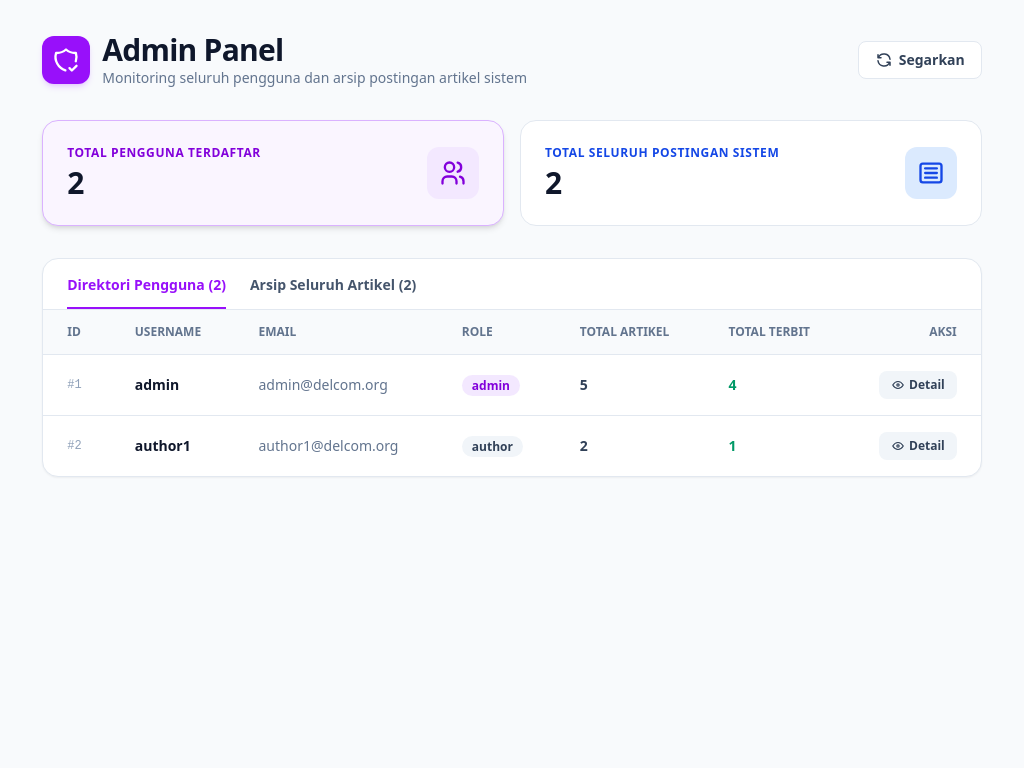
Test case: AdminDashboard › handles inspecting user posts in modal and closing modal
Expected: the text "author1@delcom.org" is shown, [234,416,438,476]
Click the button "Detail" in the row of "author1@delcom.org".
click(918, 446)  # box [879,432,957,460]
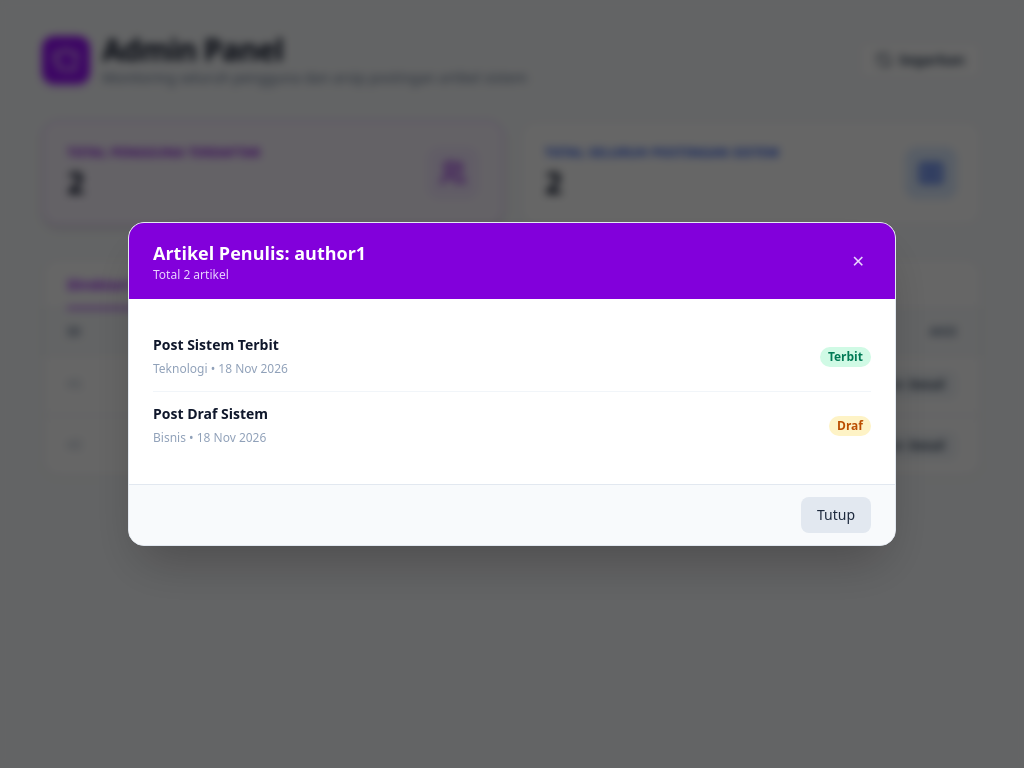
Expected: the heading "Artikel Penulis: author1" is shown, [153,239,366,267]
Expected: the text "Post Sistem Terbit" is shown, [153,335,288,355]
Expected: the text "Post Draf Sistem" is shown, [153,404,268,424]
// Close modal via close button
Click the button "Tutup".
click(836, 515)  # box [801,497,871,533]
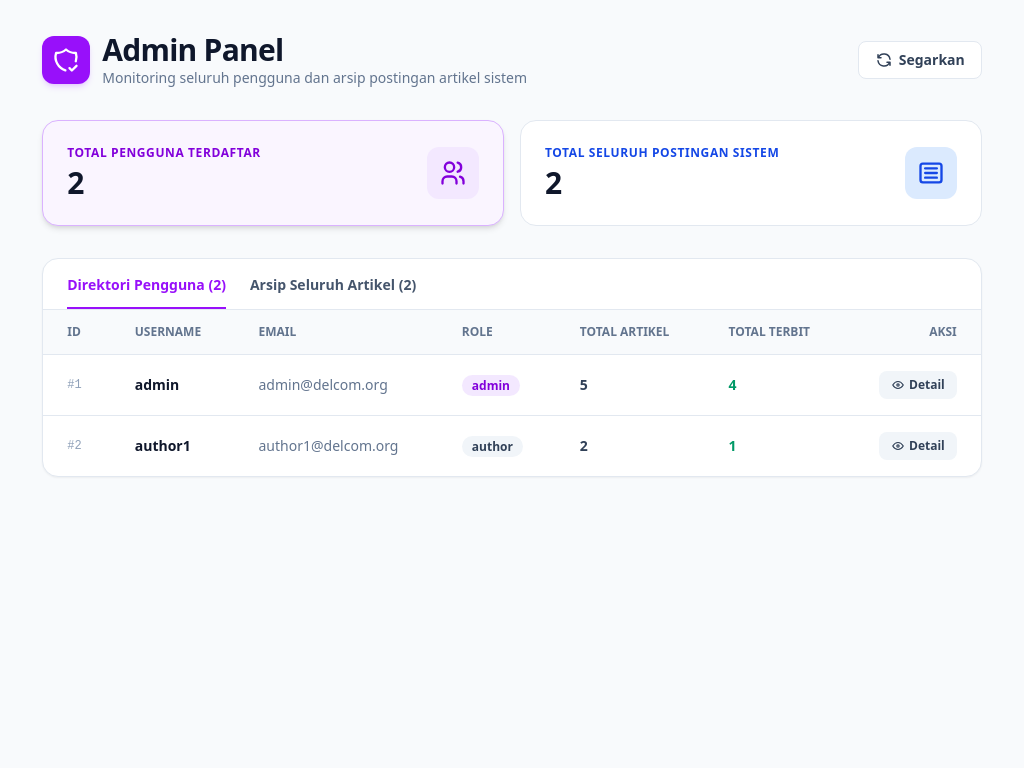
Expected: the heading "Artikel Penulis: author1" is gone
// Reopen and close via X button
Click the button "Detail" in the row of "author1@delcom.org".
click(918, 446)  # box [879,432,957,460]
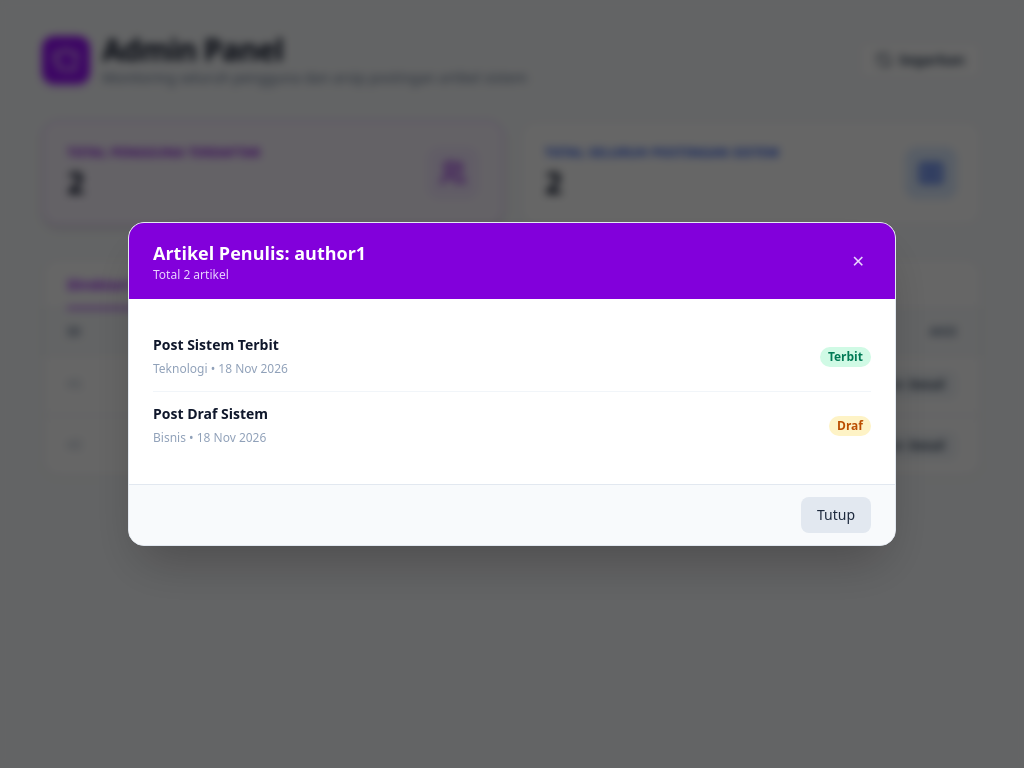
Expected: the heading "Artikel Penulis: author1" is shown, [153,239,366,267]
Click the button "✕".
click(858, 261)  # box [846,243,871,279]
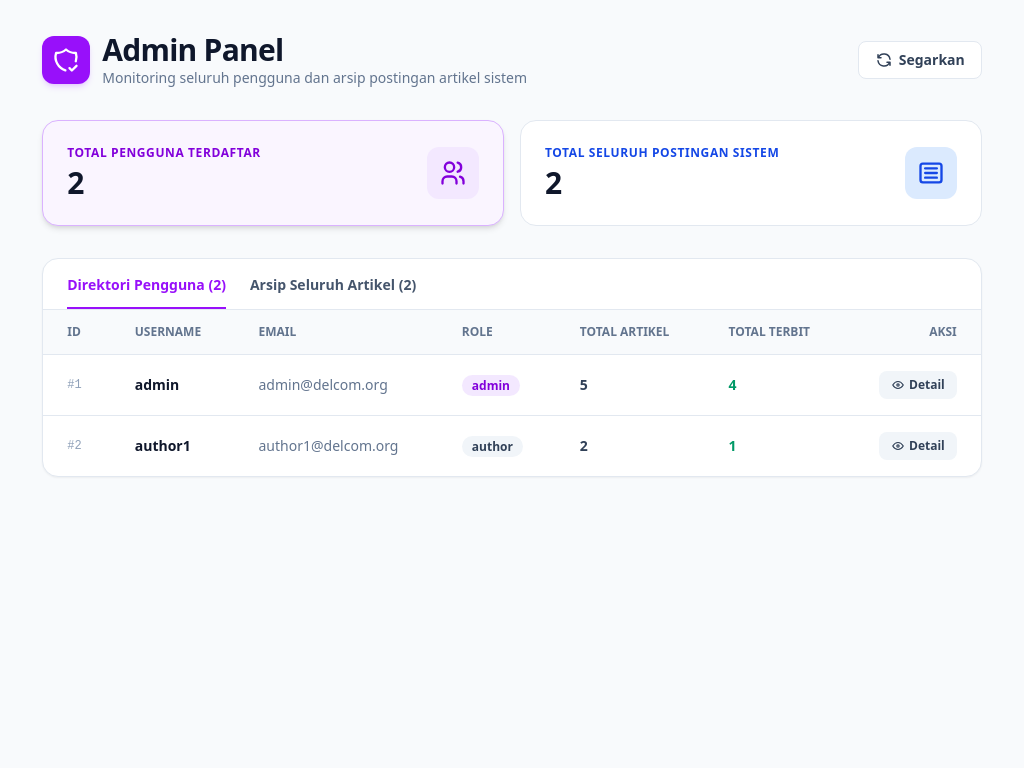
Expected: the heading "Artikel Penulis: author1" is gone
